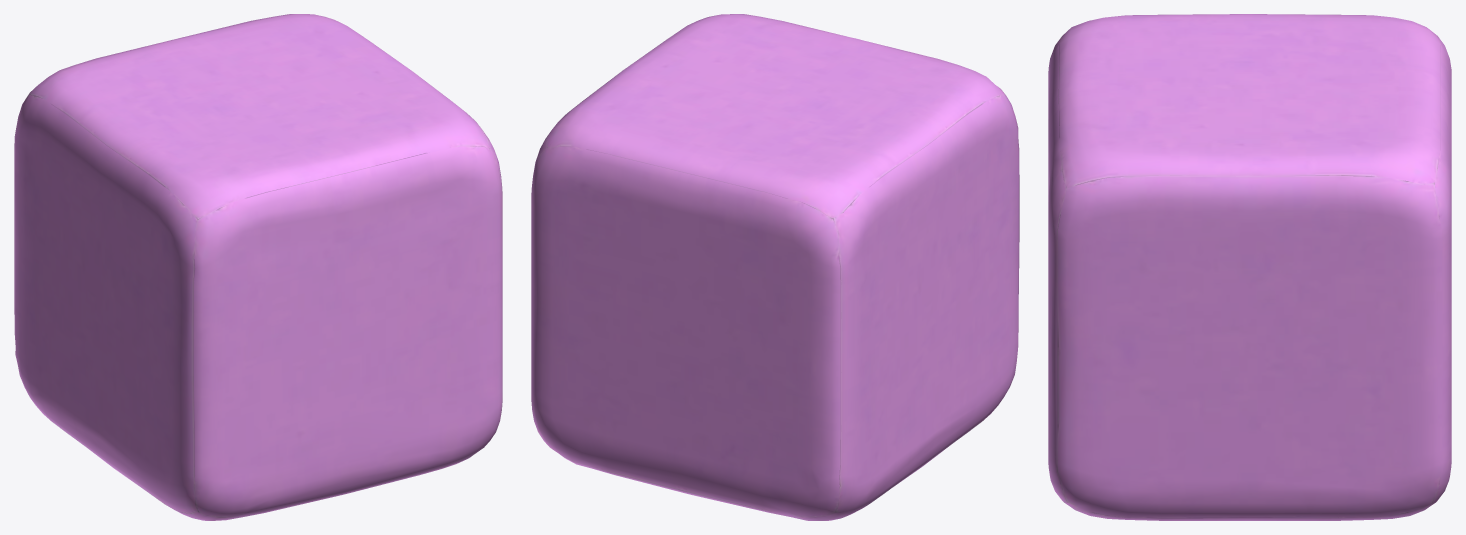
The model's file is soft_block_purple.glb.
3 views of the same model, side by side, from view 1: azimuth 30°, elevation 25°; view 2: azimuth 150°, elevation 25°; view 3: azimuth 270°, elevation 25° (orthographic). The views are drawn at different scales.
Size of what is drawn, in the model's own units: 0.9872 by 1 by 1.
Materials: 1 (1 with a texture image).
